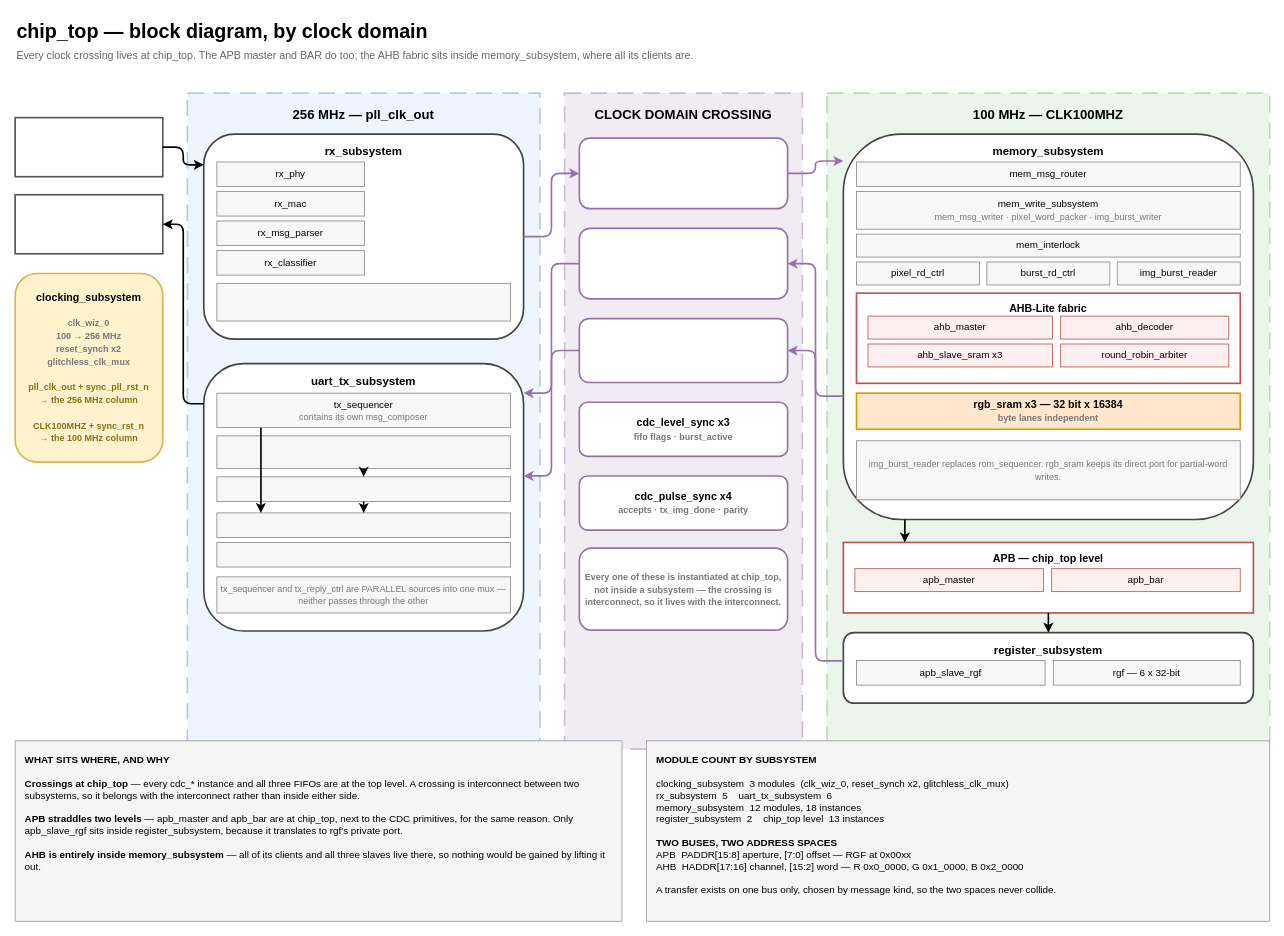
The diagram is 1284 pixels wide and 936 high, and some of its shapes have lost their labels. Here are the shapes that lost their labels. From the top down, the centre of each, then its label:
point (88, 146): inputs CLK100MHZ · CPU_RESETN UART_TXD_IN · UART_RTS
point (683, 173): cdc_msg_sync 256 → 100 one message at a time two-phase req/ack
point (88, 224): outputs UART_RXD_OUT · UART_CTS LED[15:0]
point (683, 263): async_fifo x3 100 → 256 R / G / B image words 32 bit x 16 each
point (363, 301): rx_burst_ctrl bypass_active
point (683, 350): cdc_cmd_sync x3 100 → 256 pixel · burst · register replies
point (363, 452): msg_composer · burst_msg_composer build reply payloads
point (363, 488): tx_reply_ctrl
point (363, 525): tx_mac
point (363, 554): tx_phy
